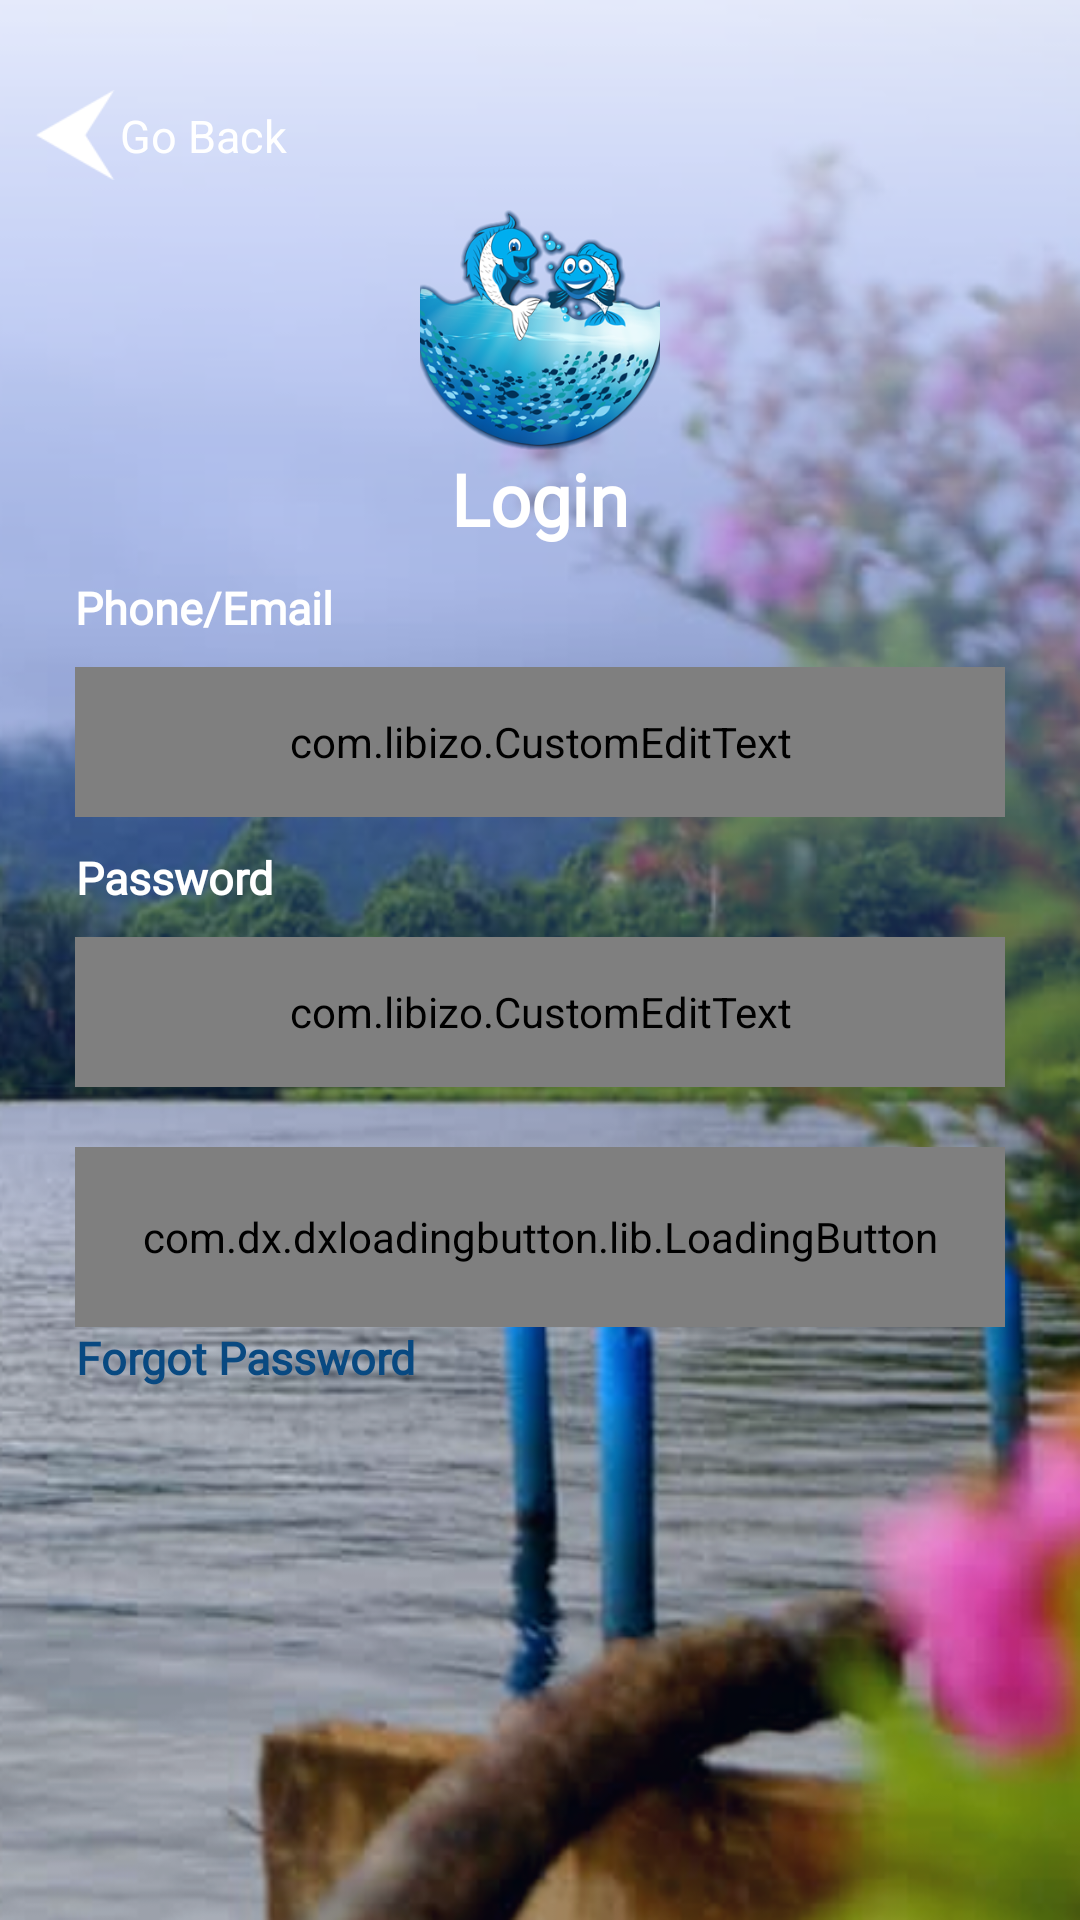

Where icons sit on this 1080 x 1920 app screen, as (x1, y1, x2, y2):
arrowwhite: (37, 91, 113, 178)
